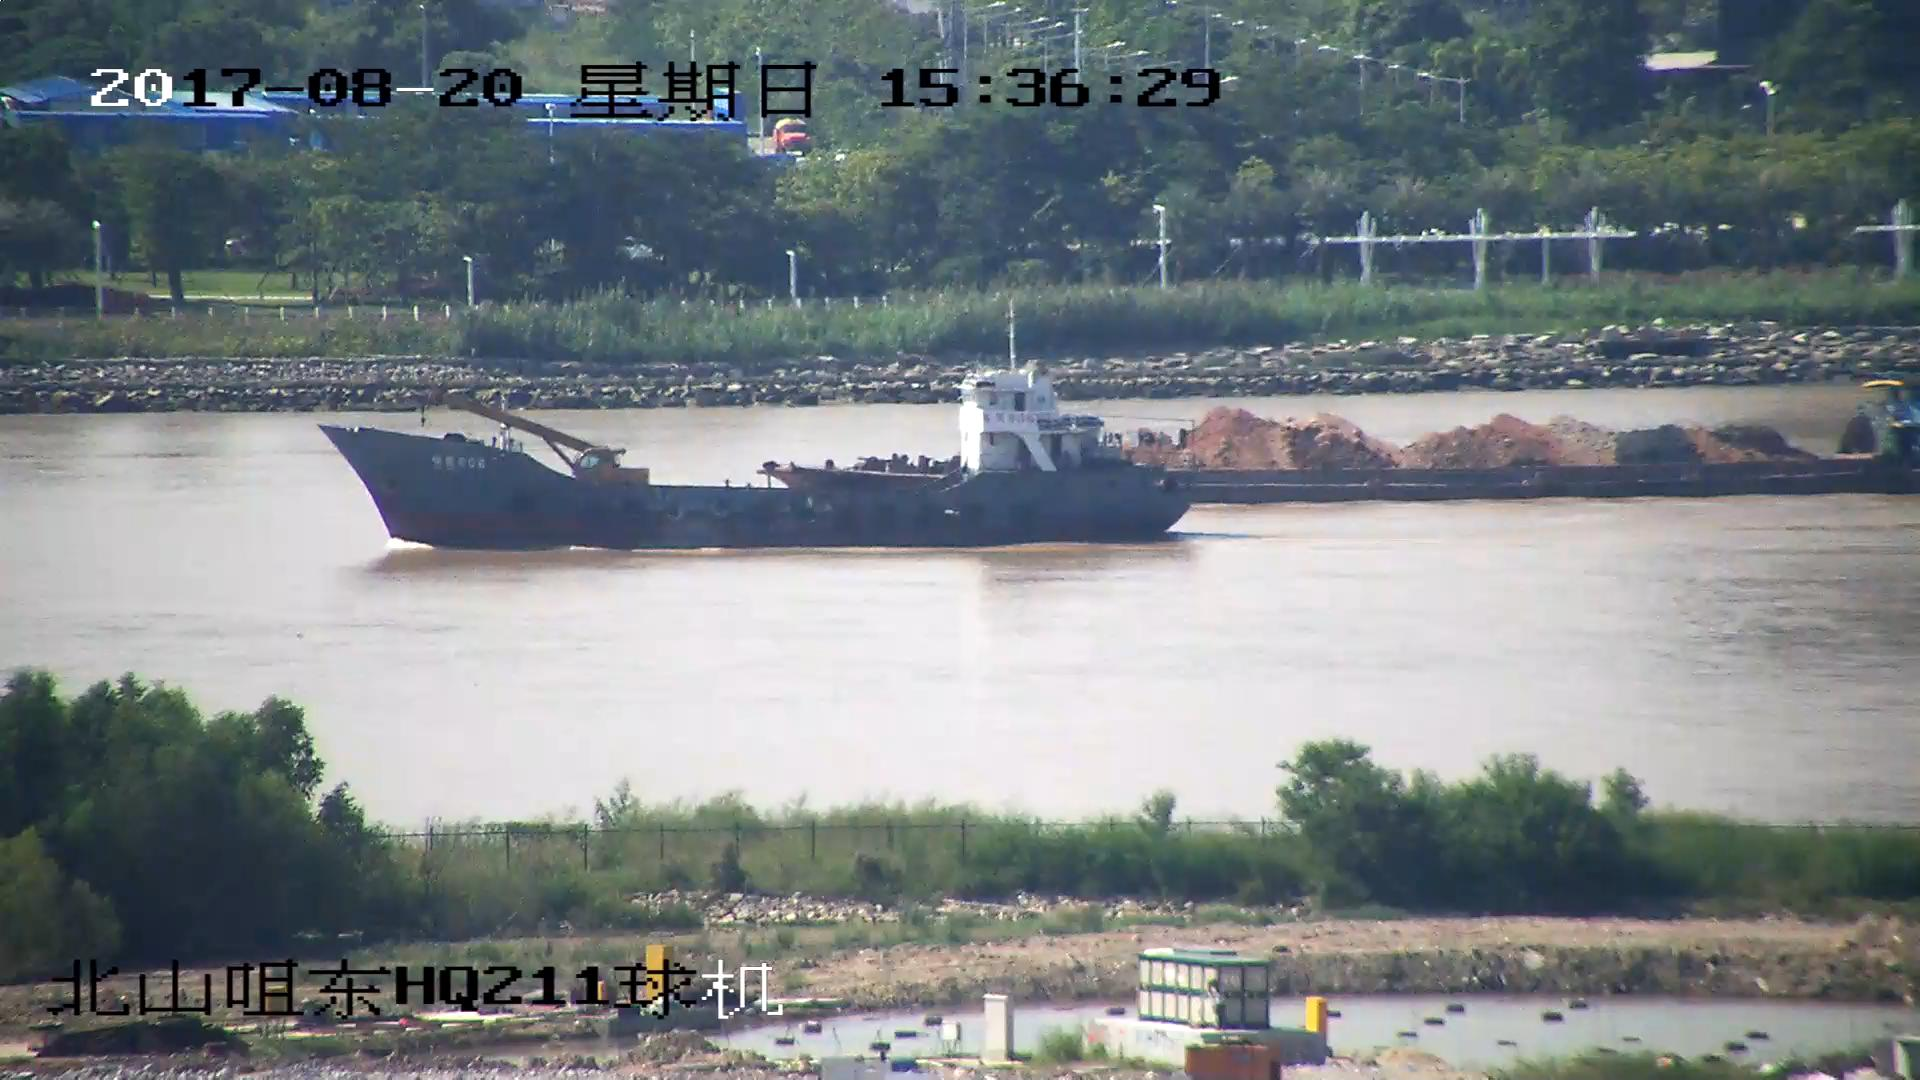general cargo ship: (318, 295, 1195, 548)
ore carrier: (768, 380, 1920, 505)
